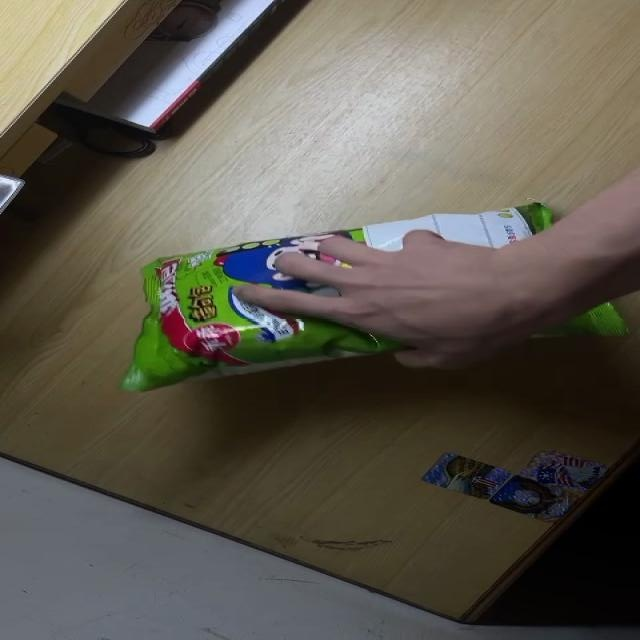Good-Luck: (117, 198, 630, 392)
